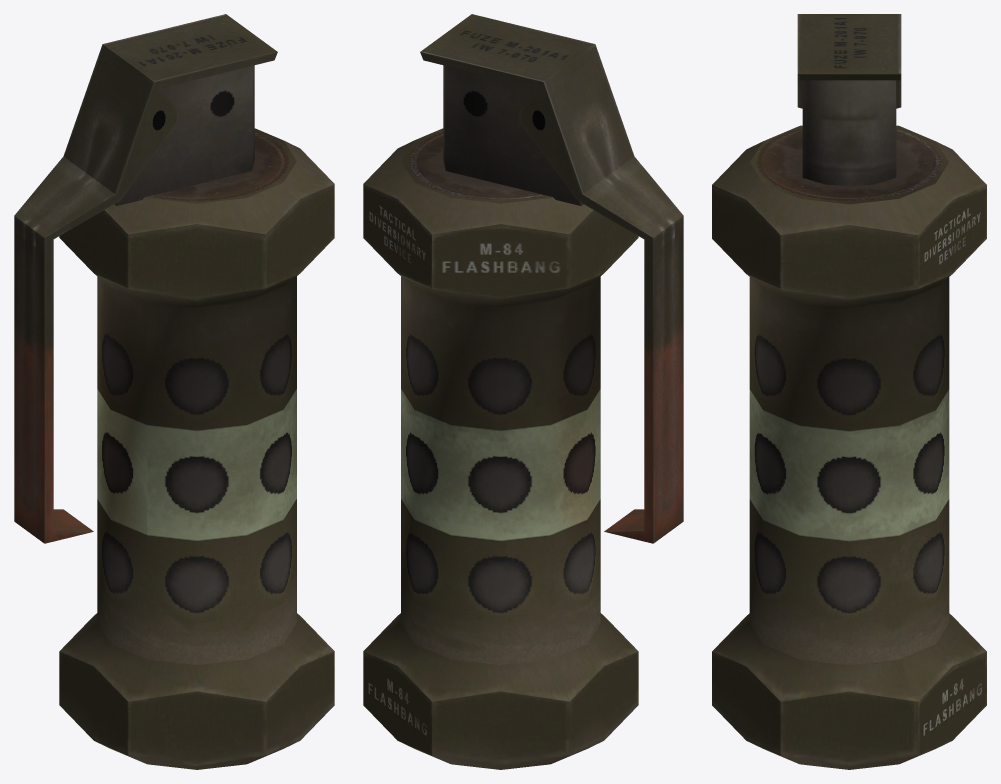
File: weapon_m84_flashbang_grenade_LOD0.obj
The picture shows the model from 3 angles, left to right: view 1: azimuth 30°, elevation 25°; view 2: azimuth 150°, elevation 25°; view 3: azimuth 270°, elevation 25°; orthographic projection.
Parts seen in each view (by area): view 1: mtl_weapon_m84; view 2: mtl_weapon_m84; view 3: mtl_weapon_m84.
Boxes of the visible parts, left/top/right/bottom form: mtl_weapon_m84: left=14, top=14, right=334, bottom=769; mtl_weapon_m84: left=363, top=14, right=683, bottom=769; mtl_weapon_m84: left=712, top=14, right=986, bottom=769.
Size of the model in its own units: 8.02 by 19.27 by 7.06.
1 material, 1 textured.
